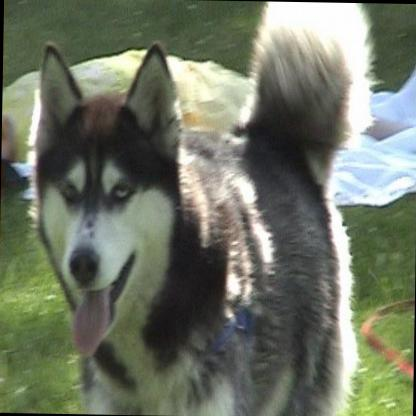Siberian_husky: (22, 0, 370, 416)
